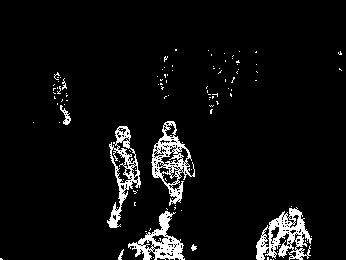person: (152, 120, 197, 230), (106, 125, 141, 229), (257, 205, 312, 260), (50, 72, 71, 125)
